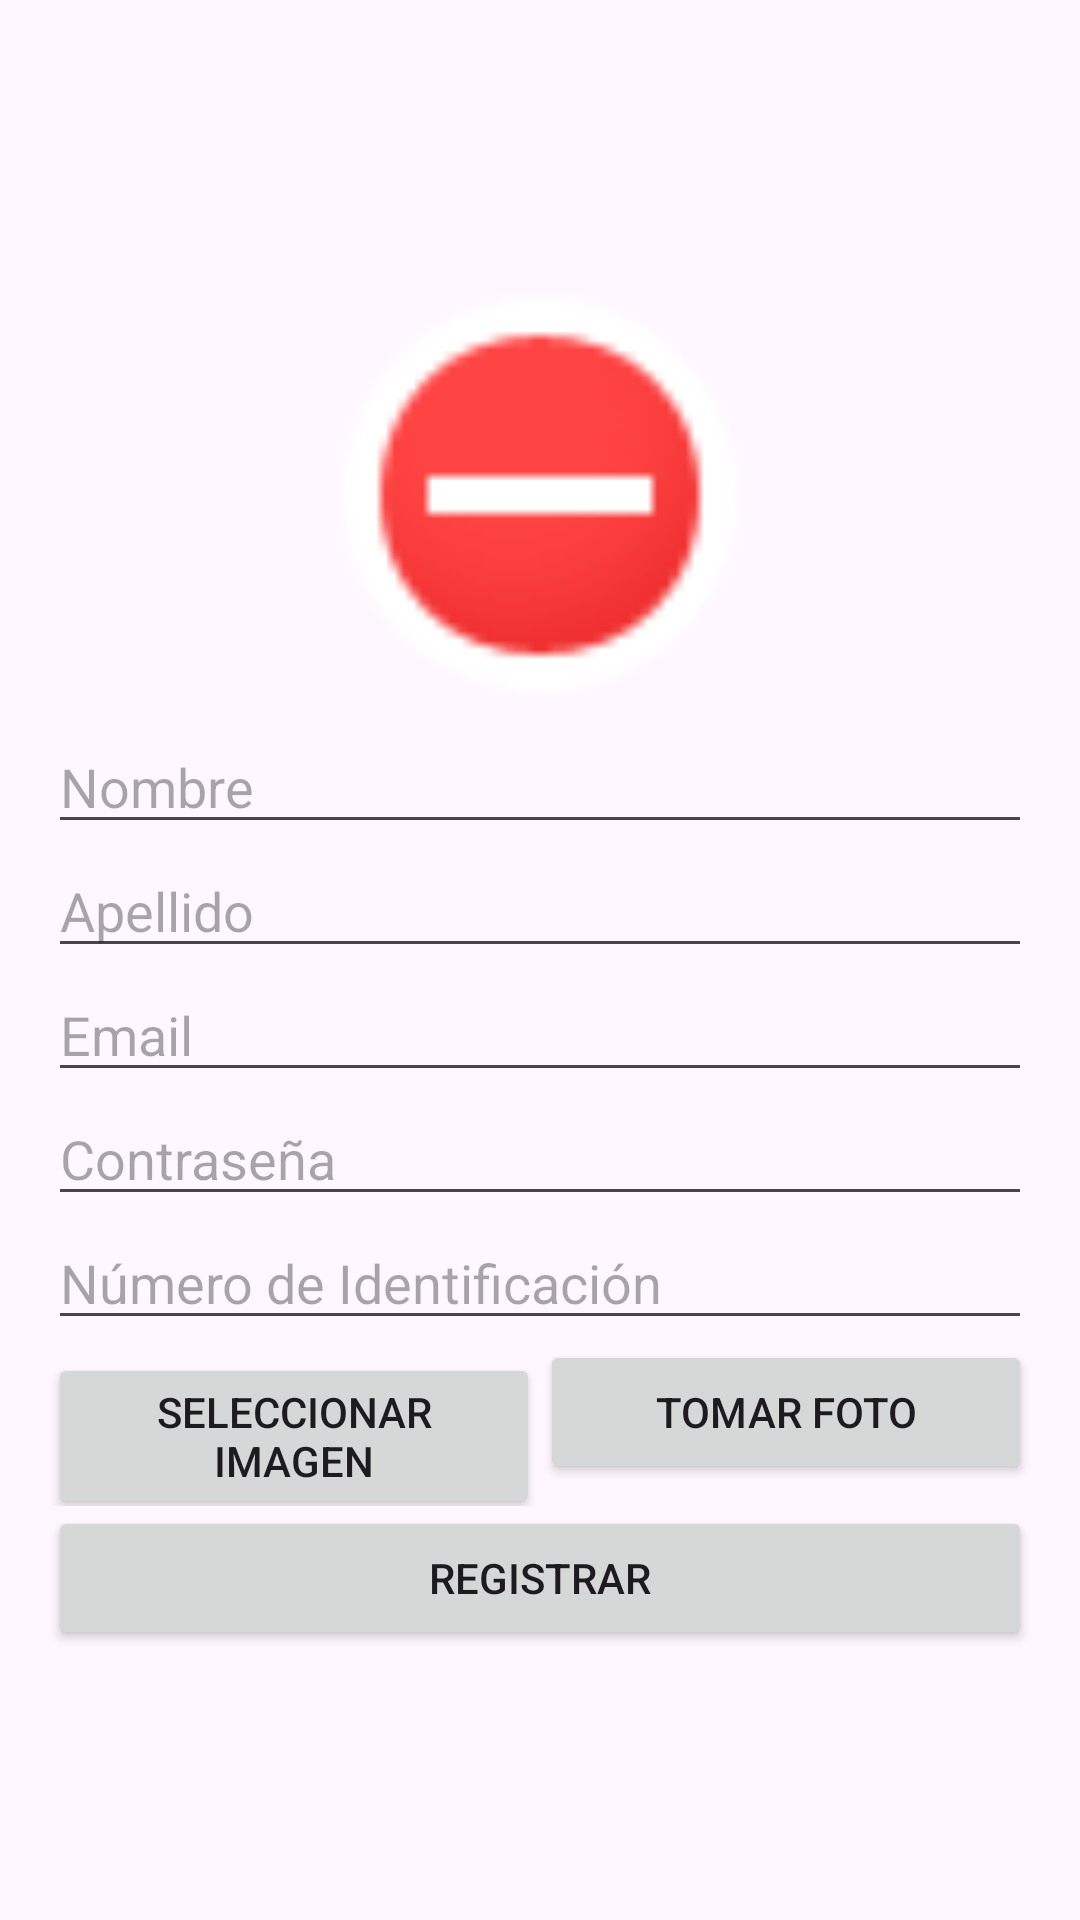

Icons on this 1080px×1920px Android screen, each with the point to tap as (x,y):
presence busy: (540,495)
